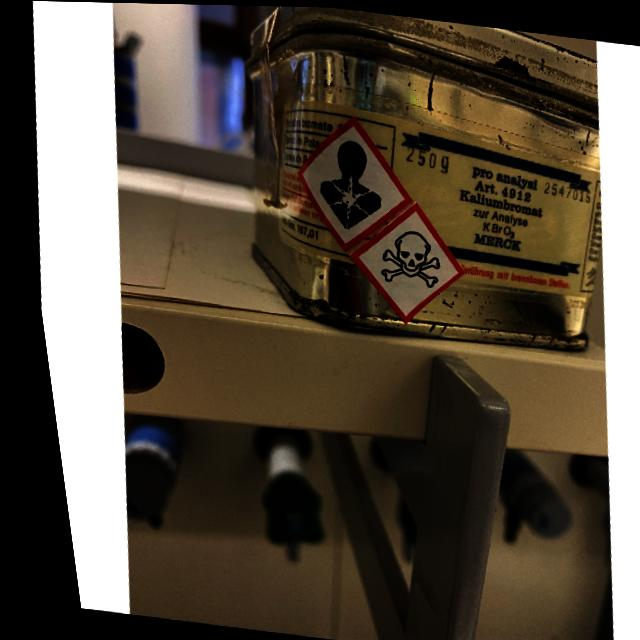acute toxicity: (327, 190, 470, 331)
serious health hazard: (279, 108, 420, 259)
